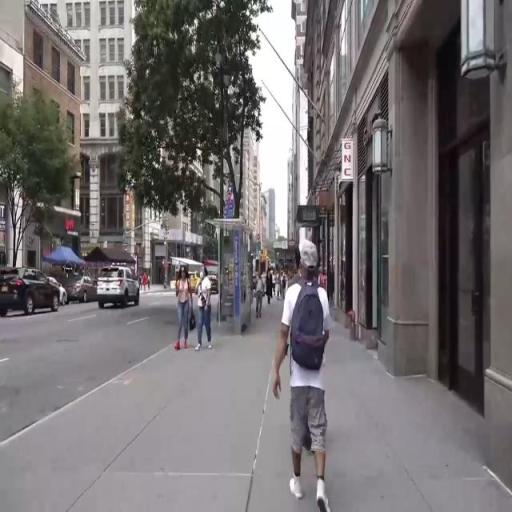person: (287, 247, 341, 500), (175, 264, 195, 364), (197, 267, 216, 357), (257, 271, 267, 334), (268, 268, 275, 301), (276, 272, 281, 303), (283, 276, 289, 299), (144, 272, 148, 294), (140, 275, 144, 289), (149, 275, 152, 292)
